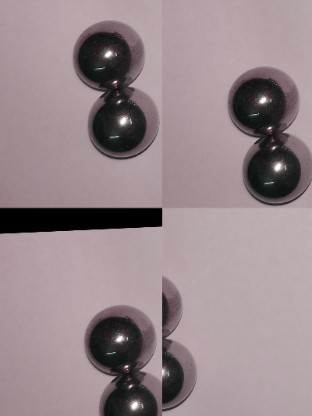ironball: (223, 60, 307, 140), (81, 85, 160, 163), (68, 14, 145, 86), (241, 130, 310, 204), (87, 304, 160, 373), (96, 367, 163, 416), (162, 338, 195, 416), (160, 268, 185, 338)
